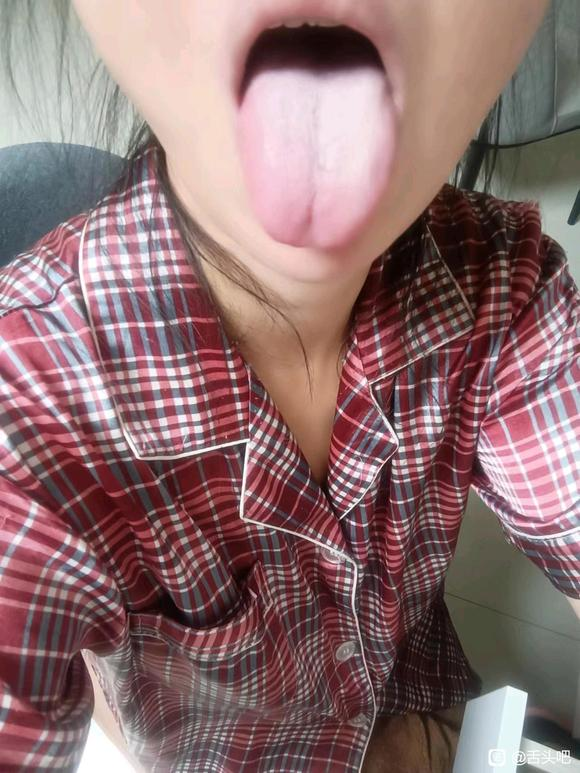baitaishe: (237, 40, 393, 251)
liewenshe: (300, 188, 320, 235)
